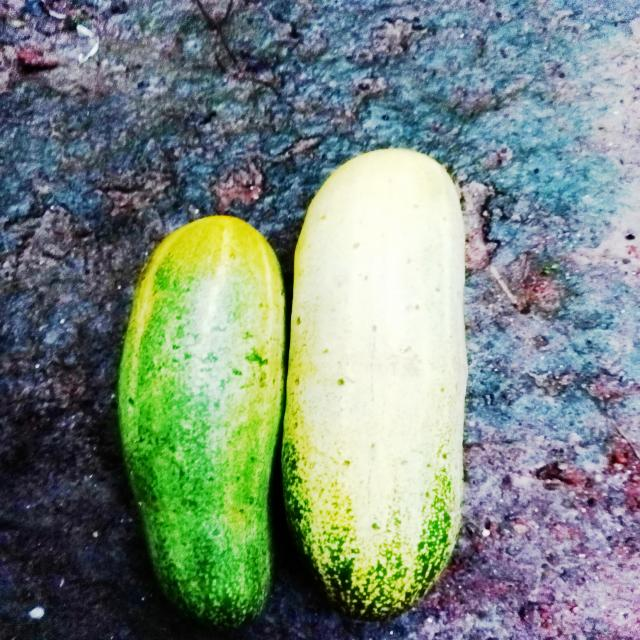Fresh-Cucumber: (285, 148, 472, 624), (114, 210, 288, 638)
